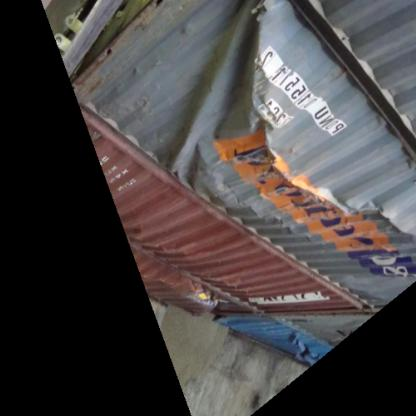Damage: (200, 163, 414, 267), (168, 6, 274, 182)
